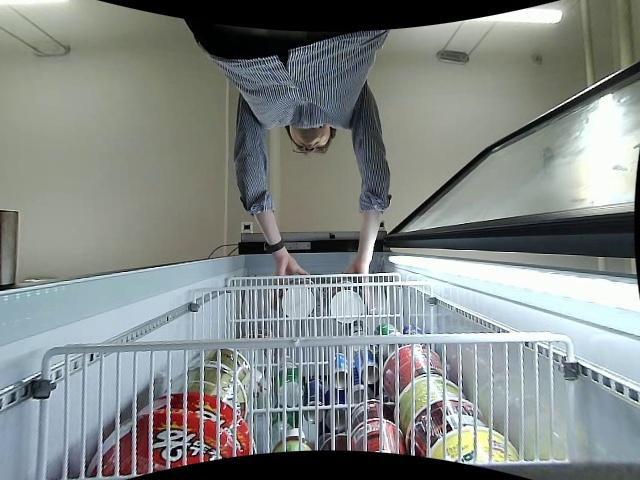00_hand: (270, 255, 312, 288), (346, 263, 370, 295)
